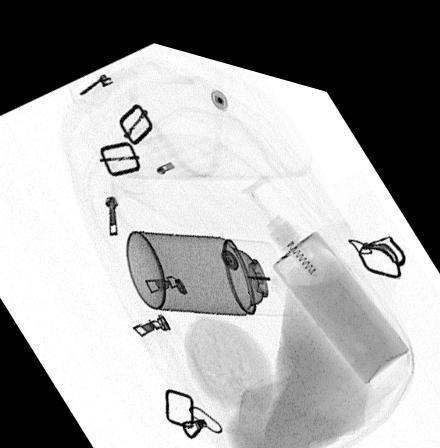Sprayer: (124, 221, 294, 302)
